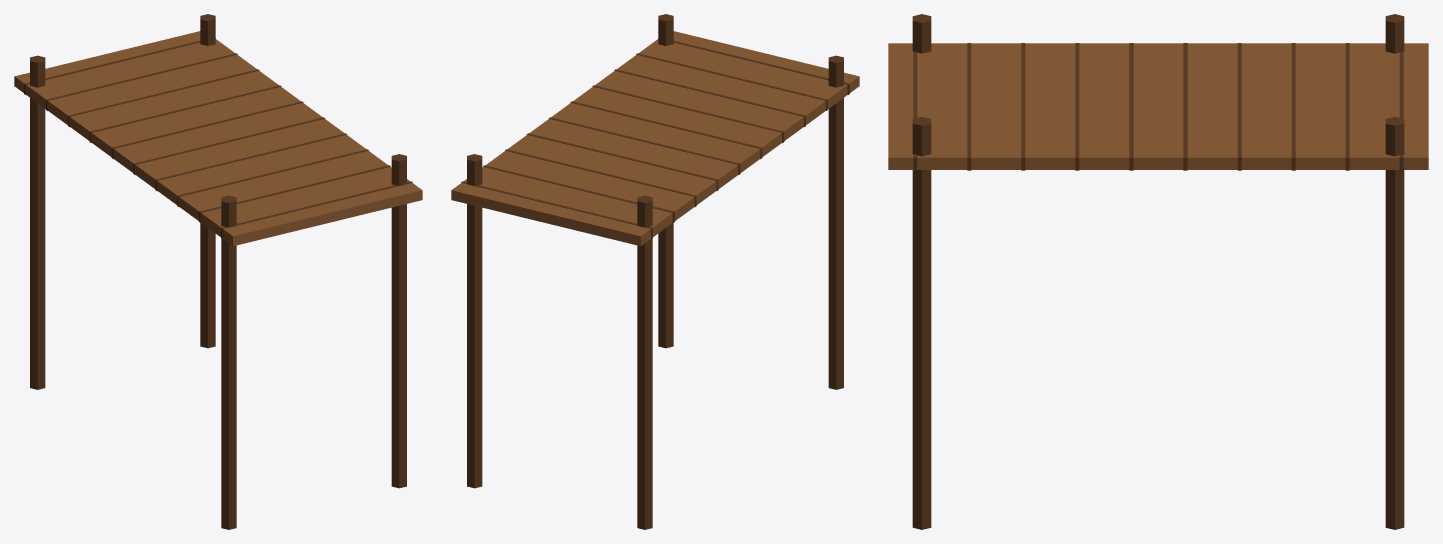
Rendered from prop_pier.glb.
3 views of the same model, side by side, from view 1: azimuth 30°, elevation 25°; view 2: azimuth 150°, elevation 25°; view 3: azimuth 270°, elevation 25° (orthographic). The views are drawn at different scales.
Parts seen in each view (by area): view 1: prop_pier__mesh; view 2: prop_pier__mesh; view 3: prop_pier__mesh.
Part boxes in pixels (x1,y1,x2,y2): prop_pier__mesh: (14,14,422,529); prop_pier__mesh: (451,14,859,529); prop_pier__mesh: (888,14,1428,529).
Bounding box in the file's own units: 4.02 × 6.6 × 8.
